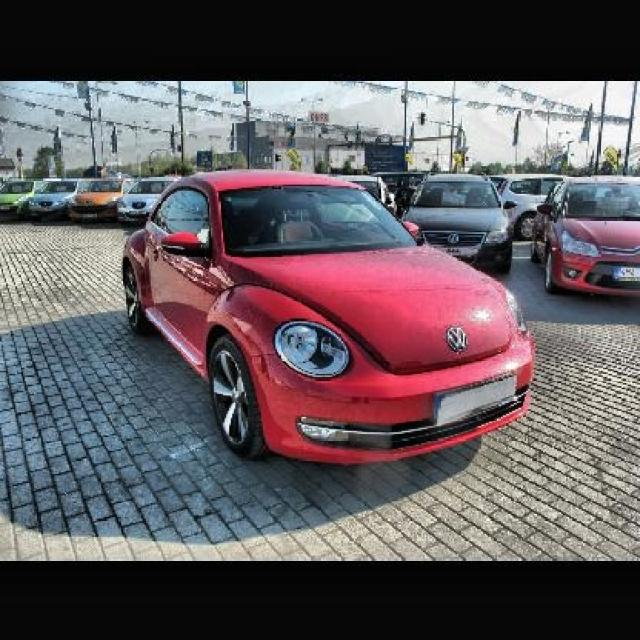maroon: (123, 175, 534, 457)
